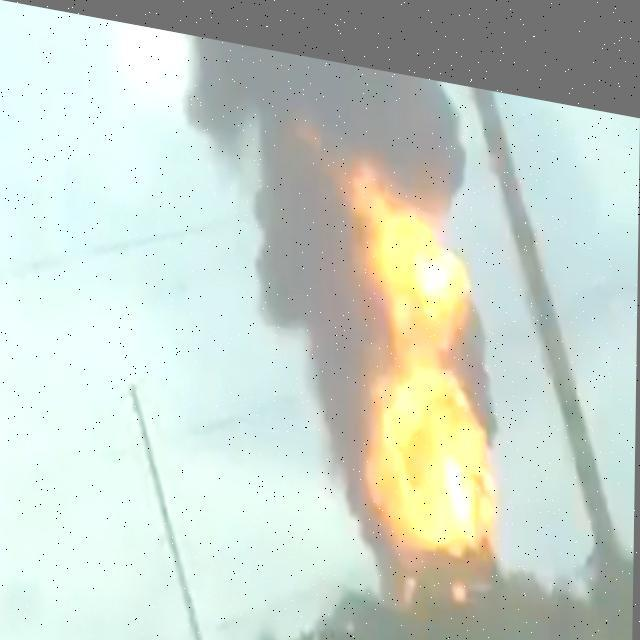Fire: (346, 162, 496, 539)
